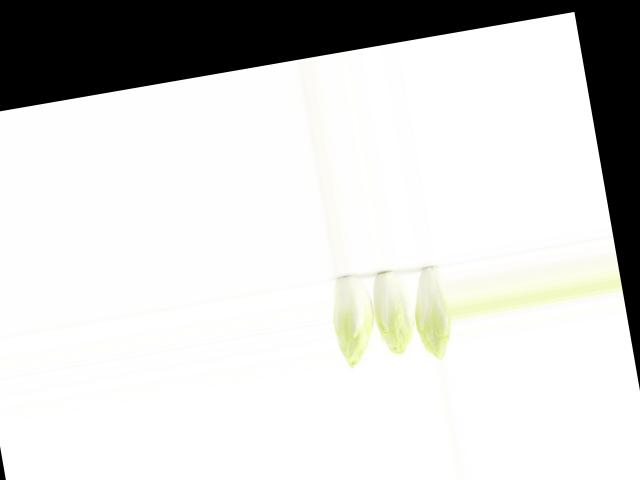lettuce: (324, 269, 380, 371)
